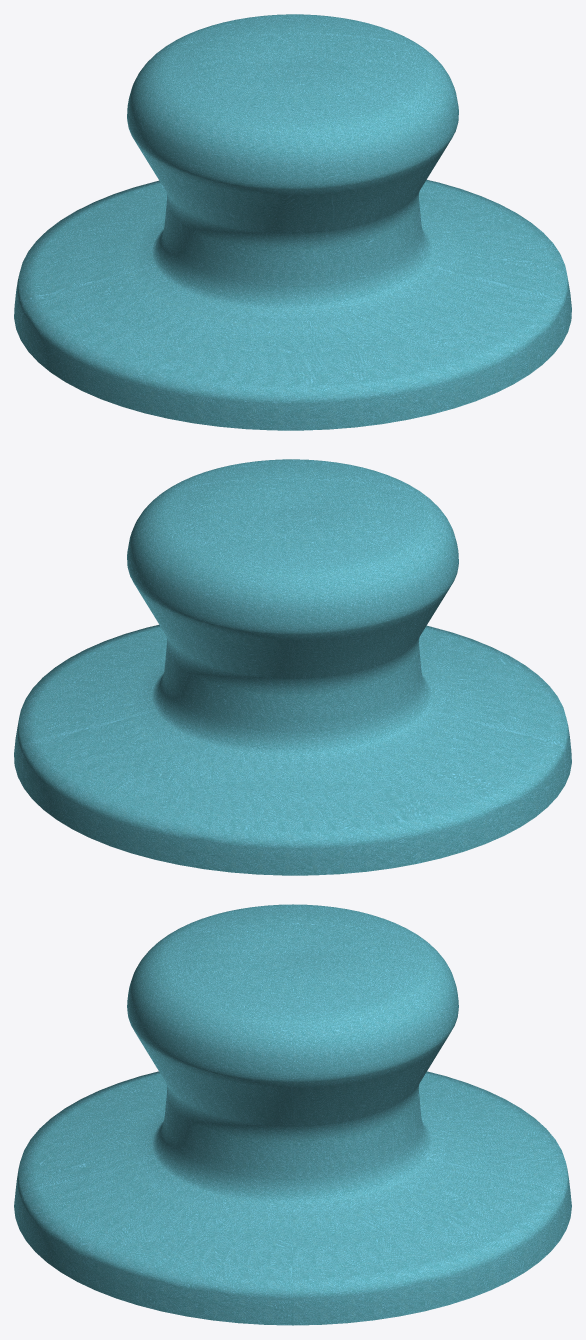
The model's file is original-35.obj.
The picture shows the model from 3 angles, top to bottom: view 1: azimuth 30°, elevation 25°; view 2: azimuth 150°, elevation 25°; view 3: azimuth 270°, elevation 25°; orthographic projection.
Parts seen in each view (by area): view 1: #ID217; view 2: #ID217; view 3: #ID217.
Boxes of the visible parts, x1,y1,x2,y2 form: #ID217: [14, 14, 571, 430]; #ID217: [14, 459, 571, 875]; #ID217: [14, 904, 571, 1325].
Bounding box in the file's own units: 0.3954 × 0.1971 × 0.3911.
2 materials, 1 textured.
